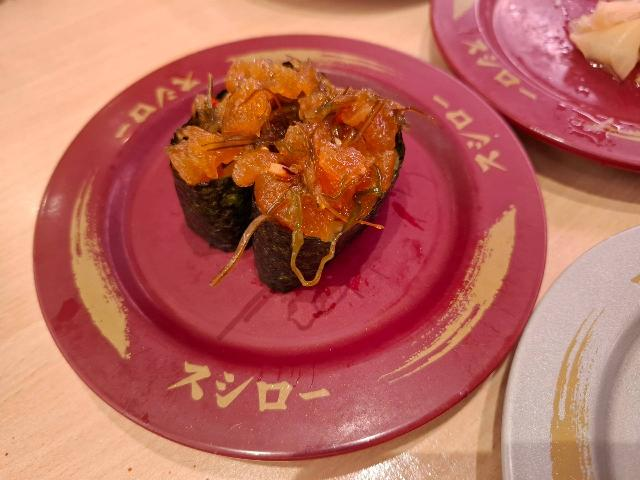janred: (42, 48, 534, 425), (394, 0, 640, 182)
janwhite: (501, 215, 640, 480)
